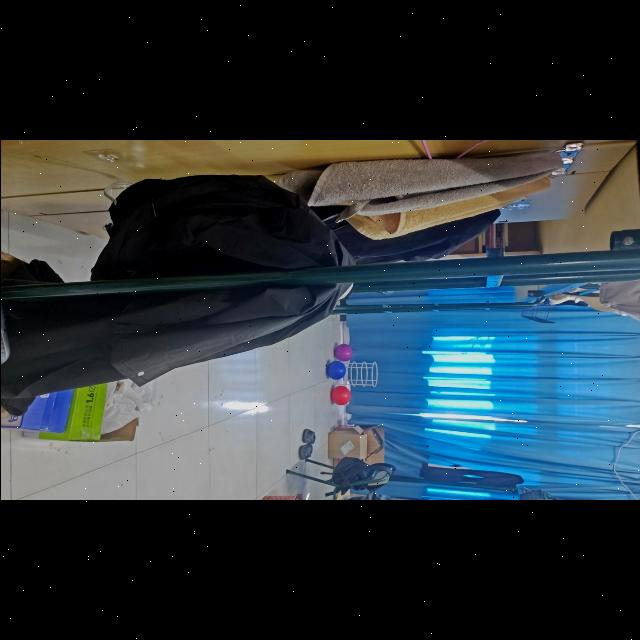B: (325, 360, 345, 380)
P: (333, 344, 352, 362)
R: (330, 386, 350, 405)
S: (330, 363, 378, 387)
